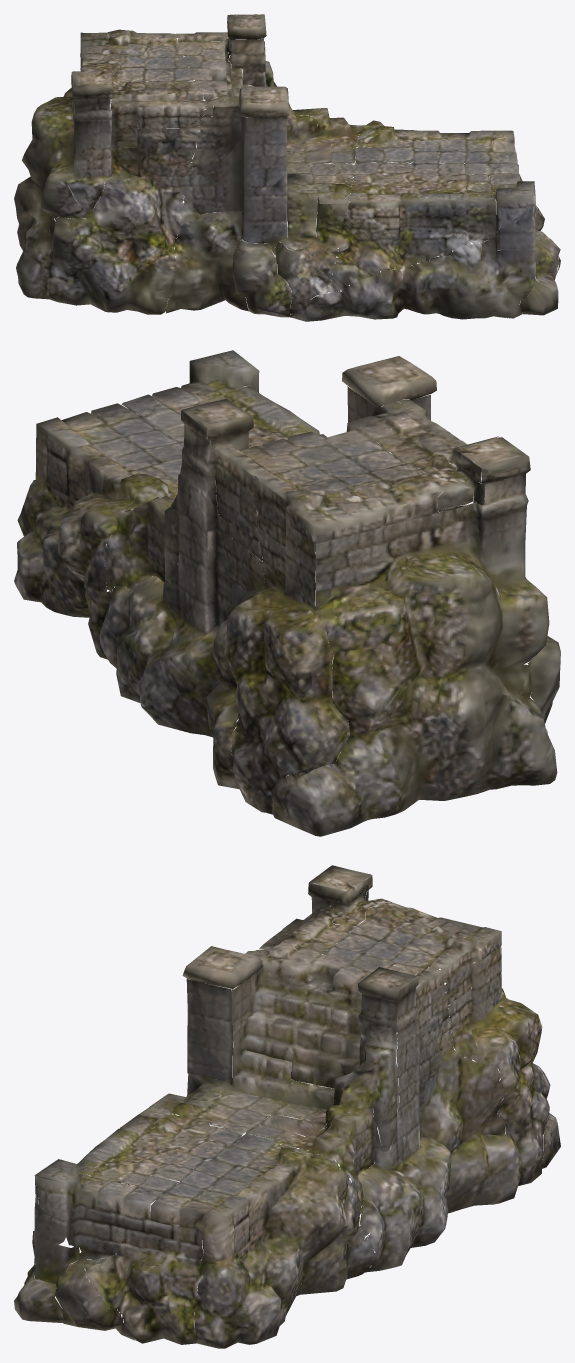
Rendered from SteppedRockTerrace.glb.
The picture shows the model from 3 angles, top to bottom: view 1: azimuth 30°, elevation 25°; view 2: azimuth 150°, elevation 25°; view 3: azimuth 270°, elevation 25°; orthographic projection. The views are drawn at different scales.
Parts seen in each view (by area): view 1: Eldoria_MultiPiece_Group_01; view 2: Eldoria_MultiPiece_Group_01; view 3: Eldoria_MultiPiece_Group_01.
Boxes of the visible parts, <box> form: Eldoria_MultiPiece_Group_01: <box>14,14,560,321</box>; Eldoria_MultiPiece_Group_01: <box>14,350,560,836</box>; Eldoria_MultiPiece_Group_01: <box>14,865,560,1348</box>.
Bounding box in the file's own units: 0.3016 × 0.1395 × 0.2735.
Materials: 1 (1 with a texture image).
